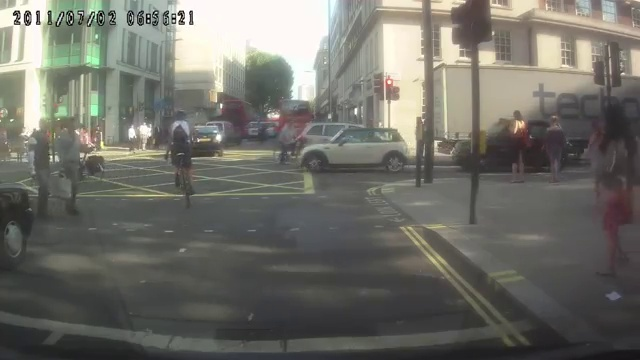cyclist_back: (166, 111, 199, 210)
